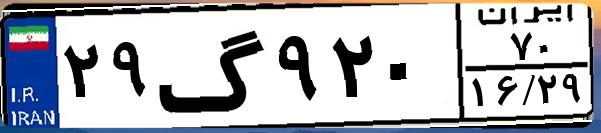0: (385, 28, 445, 110), (537, 27, 568, 80)
1: (470, 70, 495, 125)
2: (330, 28, 385, 110), (57, 26, 110, 100), (535, 70, 560, 125)
6: (495, 70, 520, 125)
7: (508, 27, 537, 80)
9: (270, 28, 330, 110), (110, 28, 156, 98), (560, 70, 590, 125)
گ: (156, 12, 270, 120)
